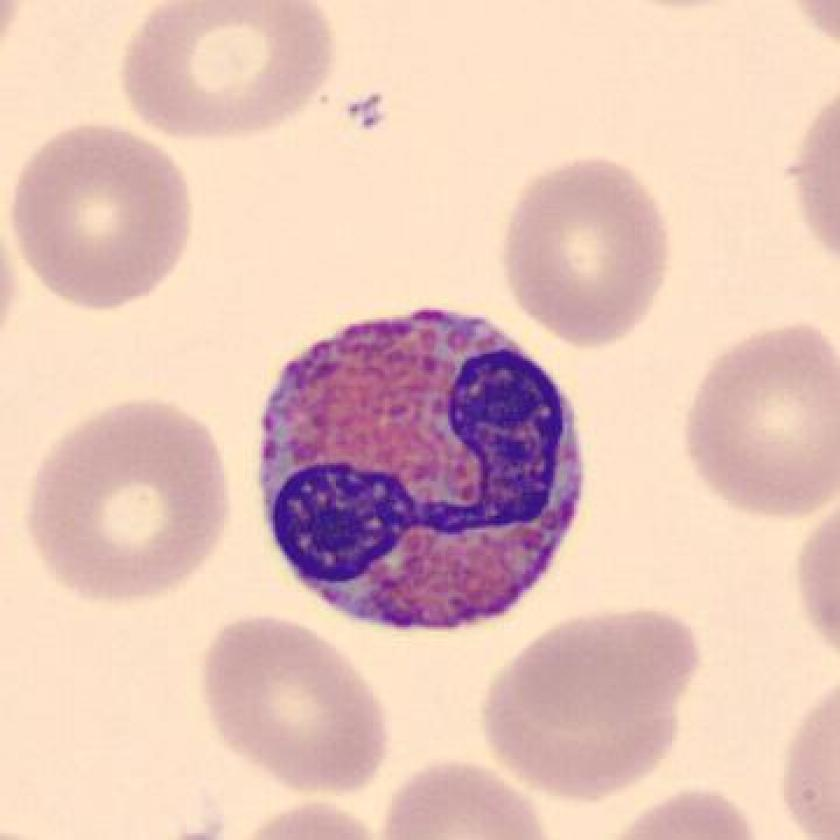eosinophil: (237, 300, 596, 654)
